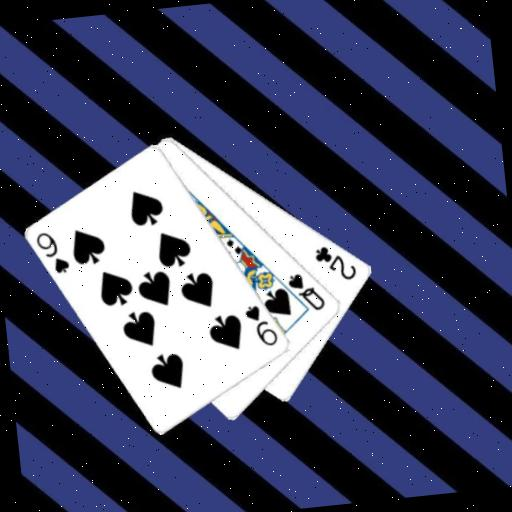2C: (311, 240, 360, 286)
9S: (33, 227, 73, 278), (241, 300, 281, 350)
QS: (284, 268, 328, 316)
